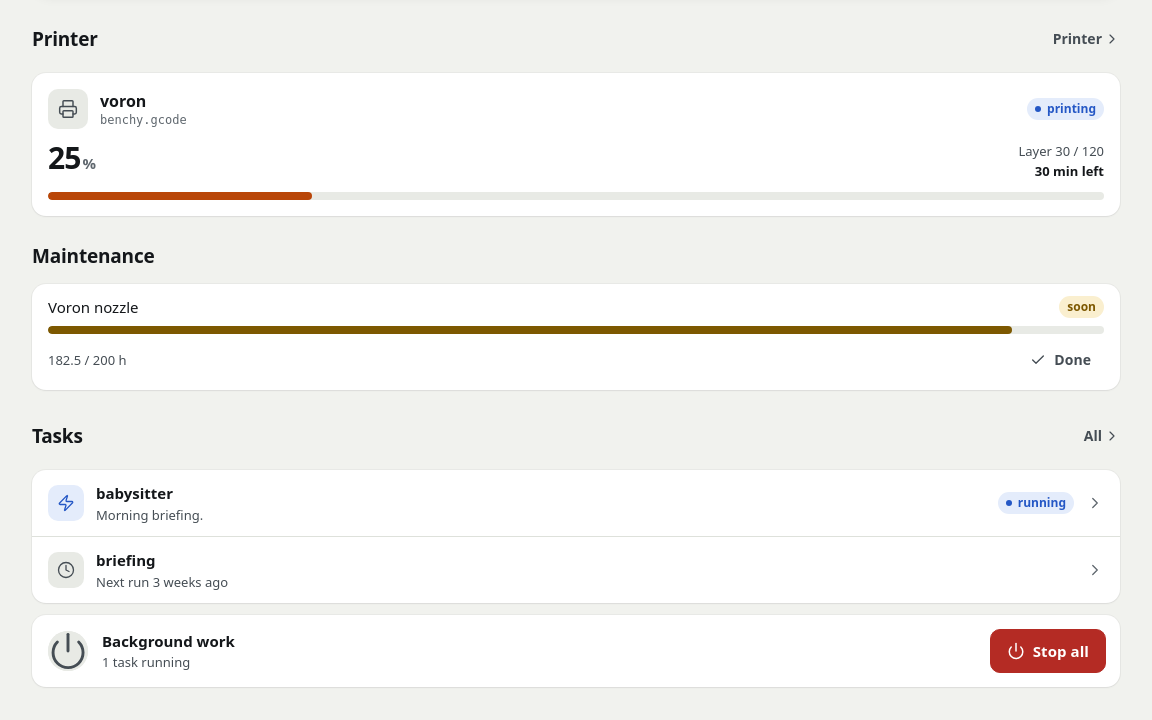
Scenario: HomeView › marks a maintenance item done only after confirmation
The image size is (1152, 720).
(page scrolled)
Click the button with test id "done": (1061, 360) [1017, 342, 1104, 378]
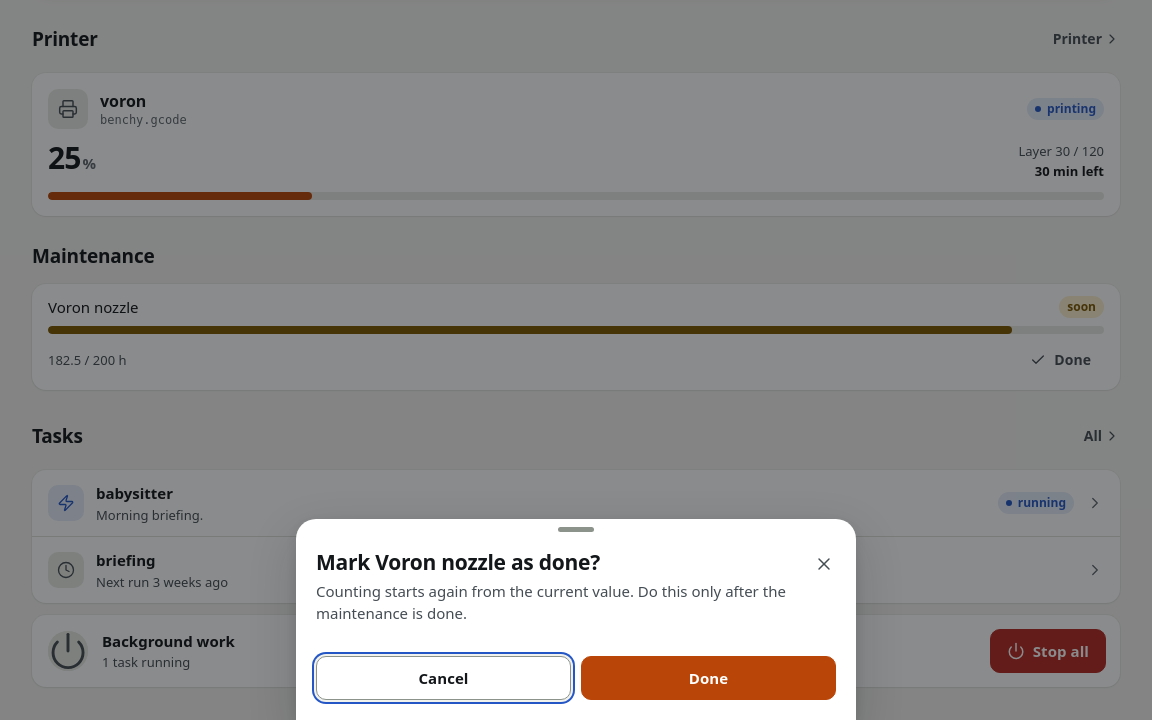
Result: the text "Mark Voron nozzle as done?" is shown at [316, 548, 600, 576]
Click the button with test id "confirm-done": (708, 678) [581, 656, 836, 700]
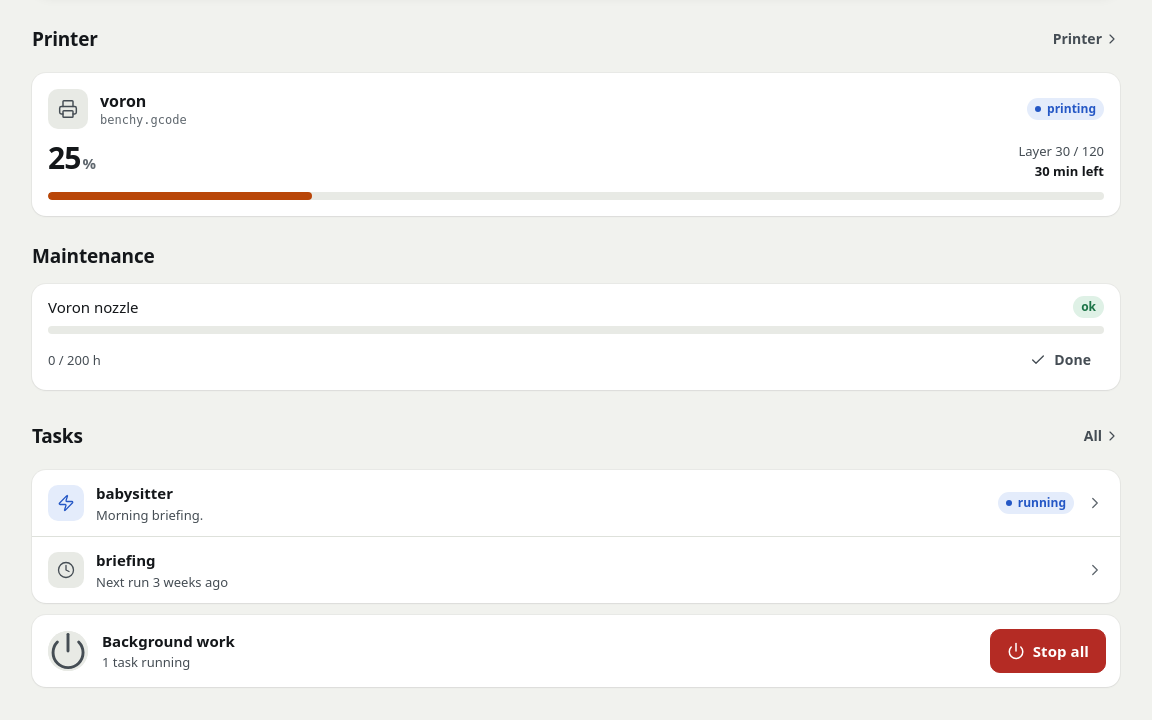
Result: the element showing "Voron nozzle ok 0 / 200 h Done" is shown at [32, 284, 1120, 390]
